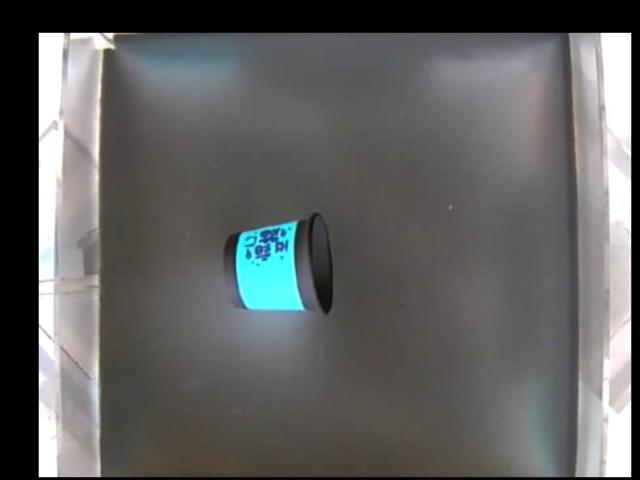Cup: (222, 214, 335, 318)
